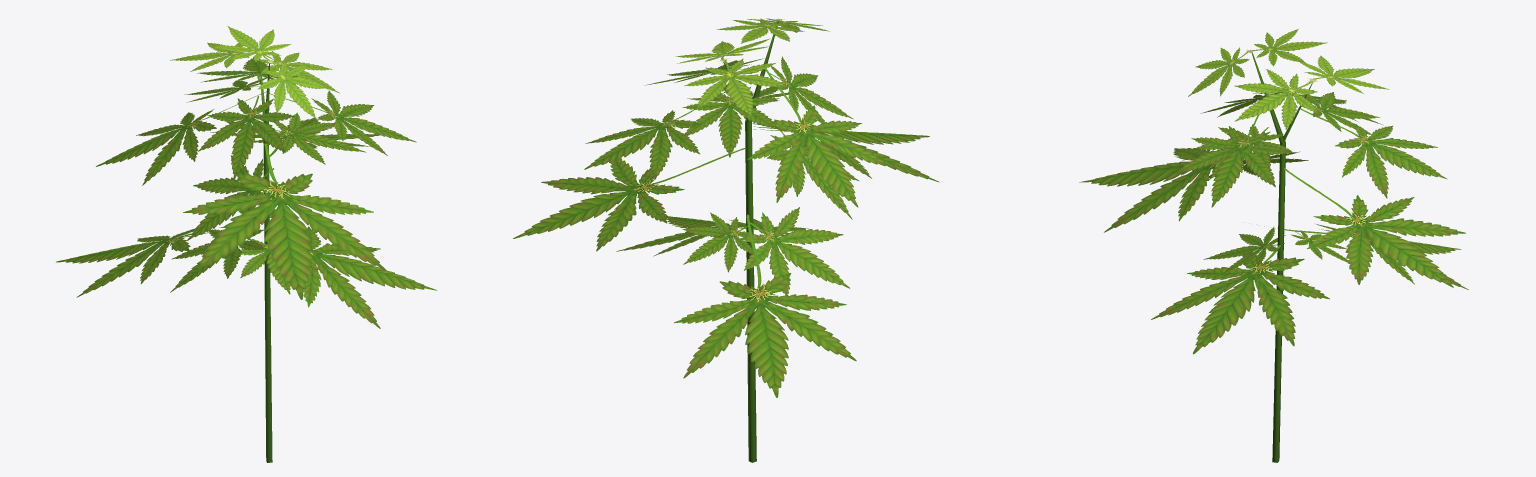
The model's file is CannabisStage03_02.fbx.
The picture shows the model from 3 angles, left to right: view 1: azimuth 30°, elevation 25°; view 2: azimuth 150°, elevation 25°; view 3: azimuth 270°, elevation 25°; orthographic projection. The views are drawn at different scales.
Parts seen in each view (by area): view 1: CannabisStage03_02_LOD0; view 2: CannabisStage03_02_LOD0; view 3: CannabisStage03_02_LOD0.
Boxes of the visible parts, bbox=[...] form: CannabisStage03_02_LOD0: bbox=[56, 26, 437, 462]; CannabisStage03_02_LOD0: bbox=[513, 18, 939, 462]; CannabisStage03_02_LOD0: bbox=[1079, 29, 1468, 462].
Size of what is drawn, in the model's own units: 78.76 by 82.48 by 88.2.
